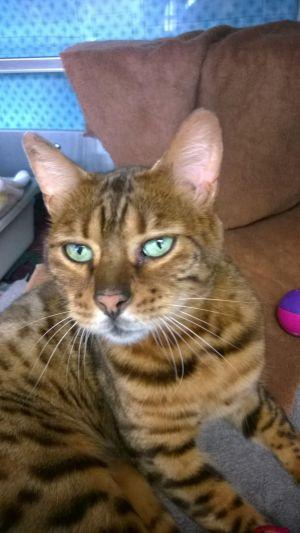bengal: (21, 105, 239, 359)
